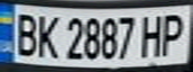2: (60, 12, 84, 61)
7: (115, 12, 139, 60)
8: (81, 14, 103, 61), (100, 14, 121, 61)
B: (9, 9, 42, 57)
H: (136, 11, 169, 58)
K: (33, 11, 60, 60)
P: (157, 9, 190, 56)
